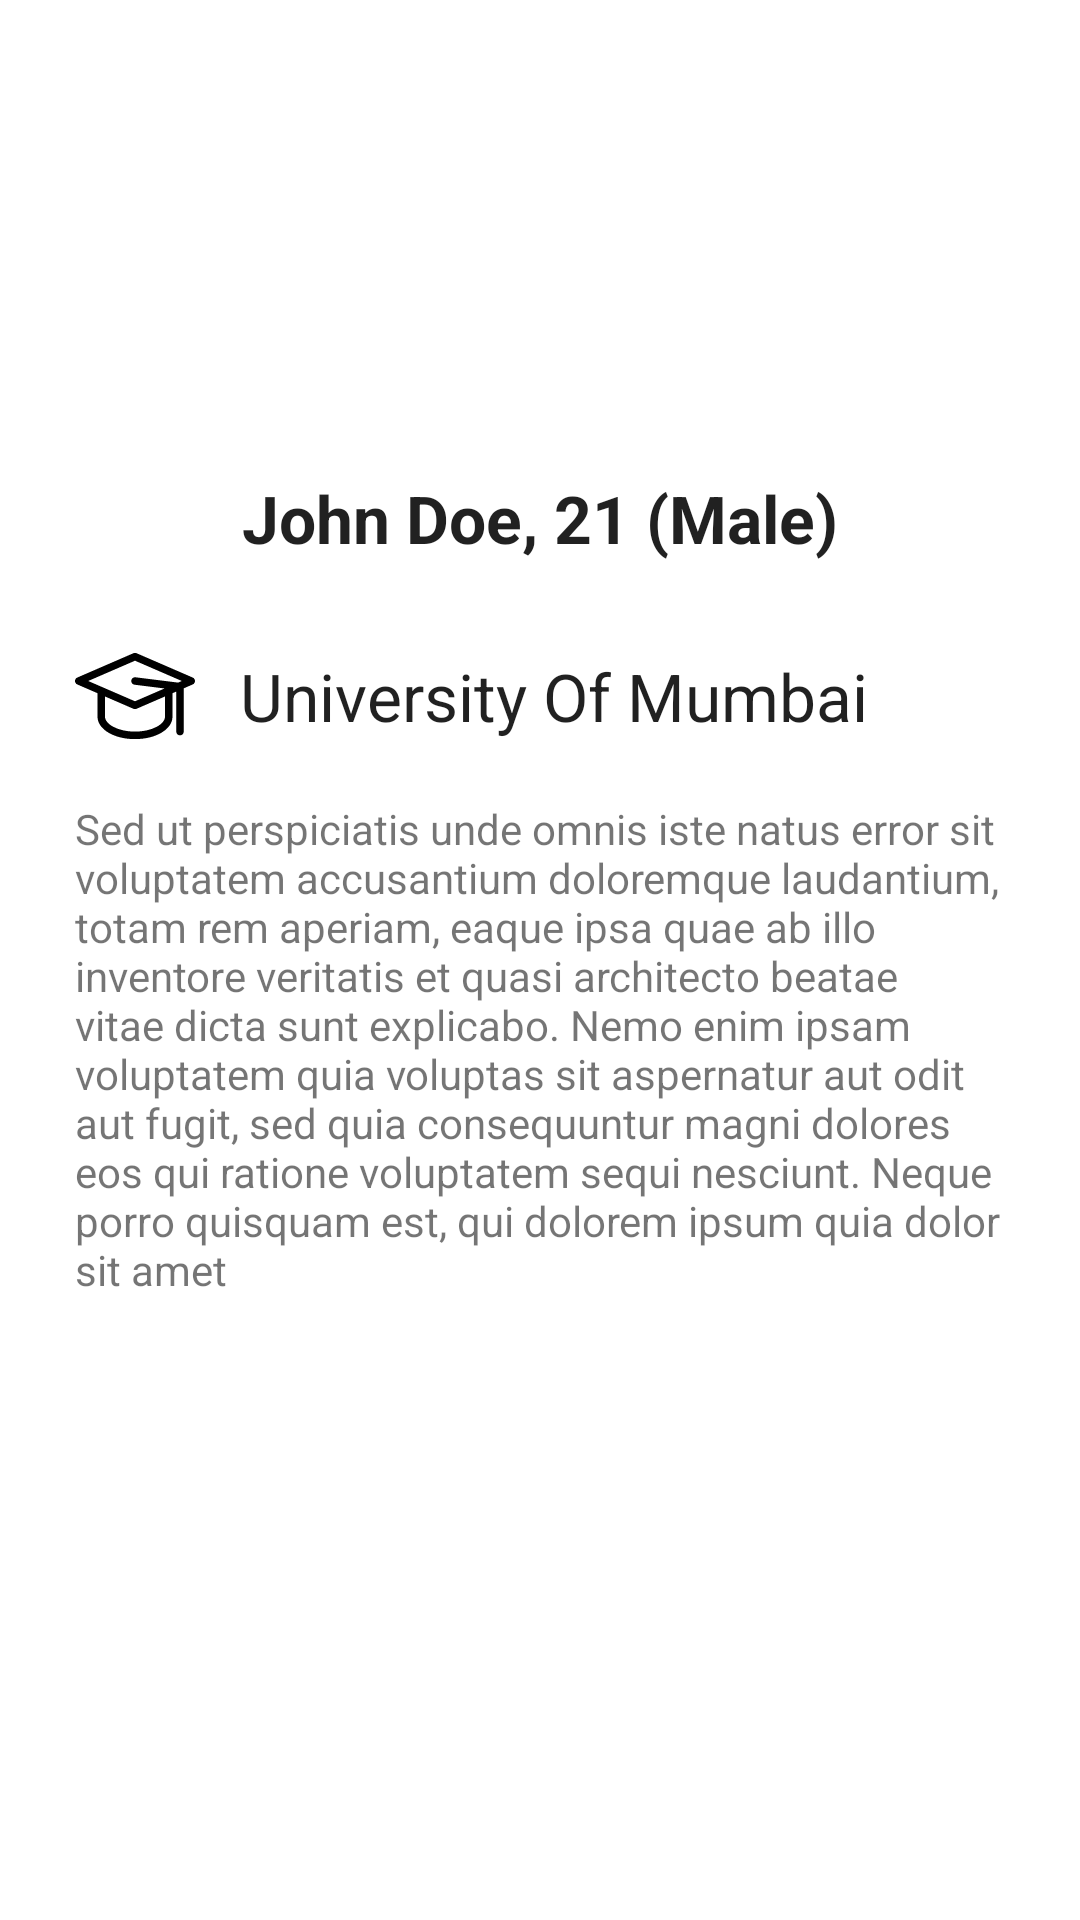

Screen size 1080x1920. Icon name, then its box in pixels as (x1=x1, y1=y1, x2=x2, y2=y2):
education: (x1=75, y1=653, x2=195, y2=739)
